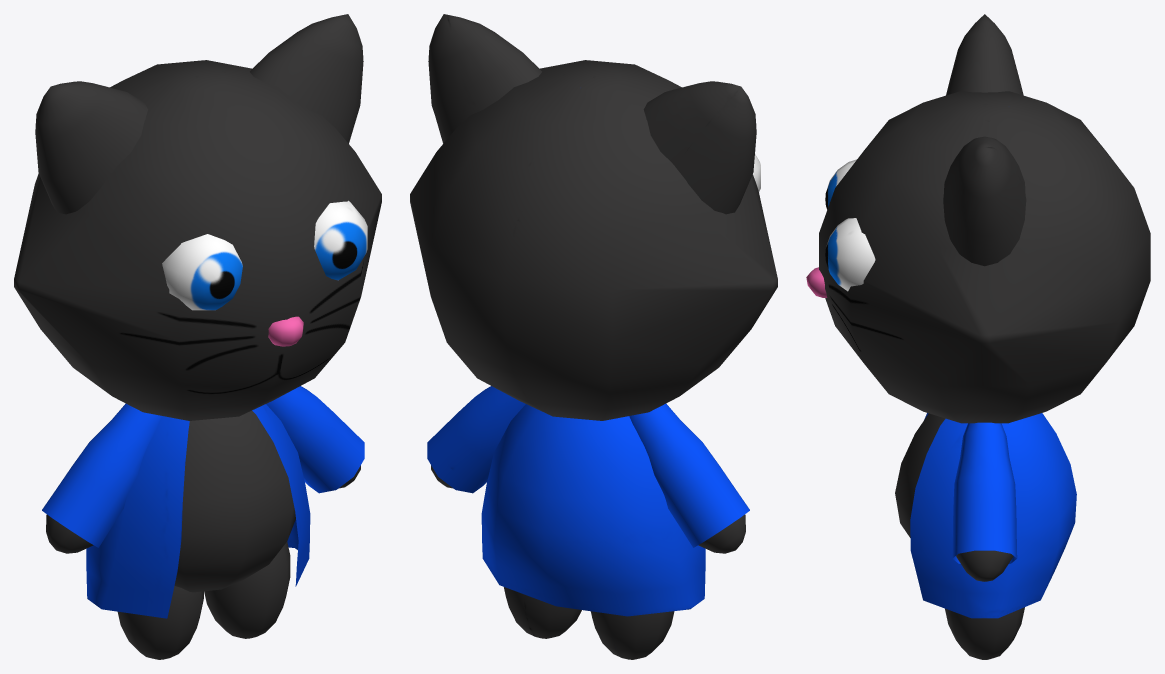
Rendered from Cat_Model.fbx.
3 views of the same model, side by side, from view 1: azimuth 30°, elevation 25°; view 2: azimuth 150°, elevation 25°; view 3: azimuth 270°, elevation 25° (orthographic). The views are drawn at different scales.
Visible parts, largest first — view 1: Head, Body, Coat, Left_Ear, Right_Ear, Sleeve_Left, Sleeve_Right, Left_Eye, Right_Leg, Left_Leg, Right_Eye, Left_Arm (+1 smaller); view 2: Head, Coat, Left_Ear, Right_Ear, Sleeve_Left, Sleeve_Right, Left_Leg, Right_Leg, Left_Arm; view 3: Head, Coat, Right_Ear, Sleeve_Right, Left_Ear, Right_Leg, Right_Eye, Body, RIght_Arm.
Part boxes in pixels (x1,y1,x2,y2): Head: (14,60,381,420); Body: (174,410,295,592); Coat: (86,404,310,618); Left_Ear: (35,81,148,214); Right_Ear: (250,14,363,143); Sleeve_Left: (42,403,162,547); Sleeve_Right: (266,386,364,493); Left_Eye: (162,234,242,310); Right_Leg: (204,541,290,638); Left_Leg: (117,586,203,659); Right_Eye: (314,200,367,280); Left_Arm: (46,514,93,553); Head: (410,60,777,420); Coat: (481,404,705,616); Left_Ear: (643,81,756,214); Right_Ear: (428,14,541,143); Sleeve_Left: (629,403,749,547); Sleeve_Right: (427,386,525,493); Left_Leg: (591,611,674,659); Right_Leg: (504,587,581,638); Left_Arm: (698,514,745,553); Head: (819,91,1150,423); Coat: (910,413,1076,618); Right_Ear: (943,136,1026,266); Sleeve_Right: (952,422,1017,563); Left_Ear: (946,14,1023,95); Right_Leg: (945,607,1024,659); Right_Eye: (825,218,875,291); Body: (895,413,945,537); RIght_Arm: (956,550,1013,581).
Bounding box in the file's own units: 400 × 630 × 354.
